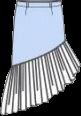Hemline: (0, 64, 80, 115)
Waistline: (10, 38, 66, 66), (16, 3, 62, 7), (16, 0, 60, 2)
